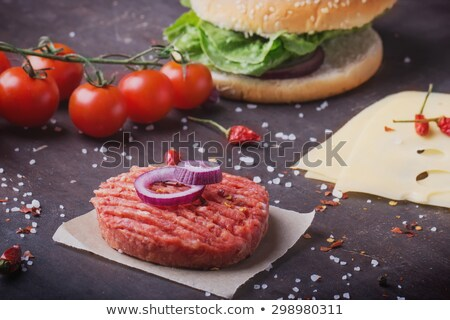ground_beef: (89, 154, 272, 273)
